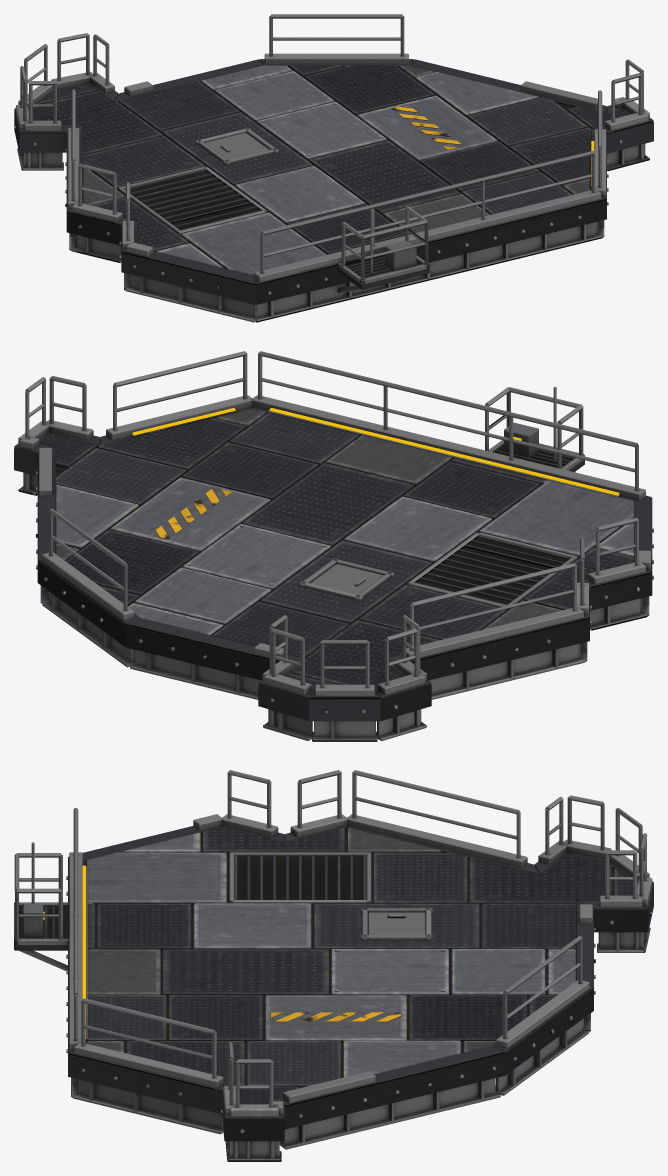
Rendered from nodexeus-set-deck-j.glb.
3 views of the same model, one above another, from view 1: azimuth 30°, elevation 25°; view 2: azimuth 150°, elevation 25°; view 3: azimuth 270°, elevation 25° (orthographic). The views are drawn at different scales.
Parts seen in each view (by area): view 1: set-deck-j; view 2: set-deck-j; view 3: set-deck-j.
Part boxes in pixels (x1=…): set-deck-j: x1=14, y1=14, x2=653, y2=322; set-deck-j: x1=14, y1=351, x2=653, y2=741; set-deck-j: x1=14, y1=770, x2=653, y2=1161.
Bounding box in the file's own units: 11.77 × 2.13 × 10.65.
Materials: 1 (1 with a texture image).
